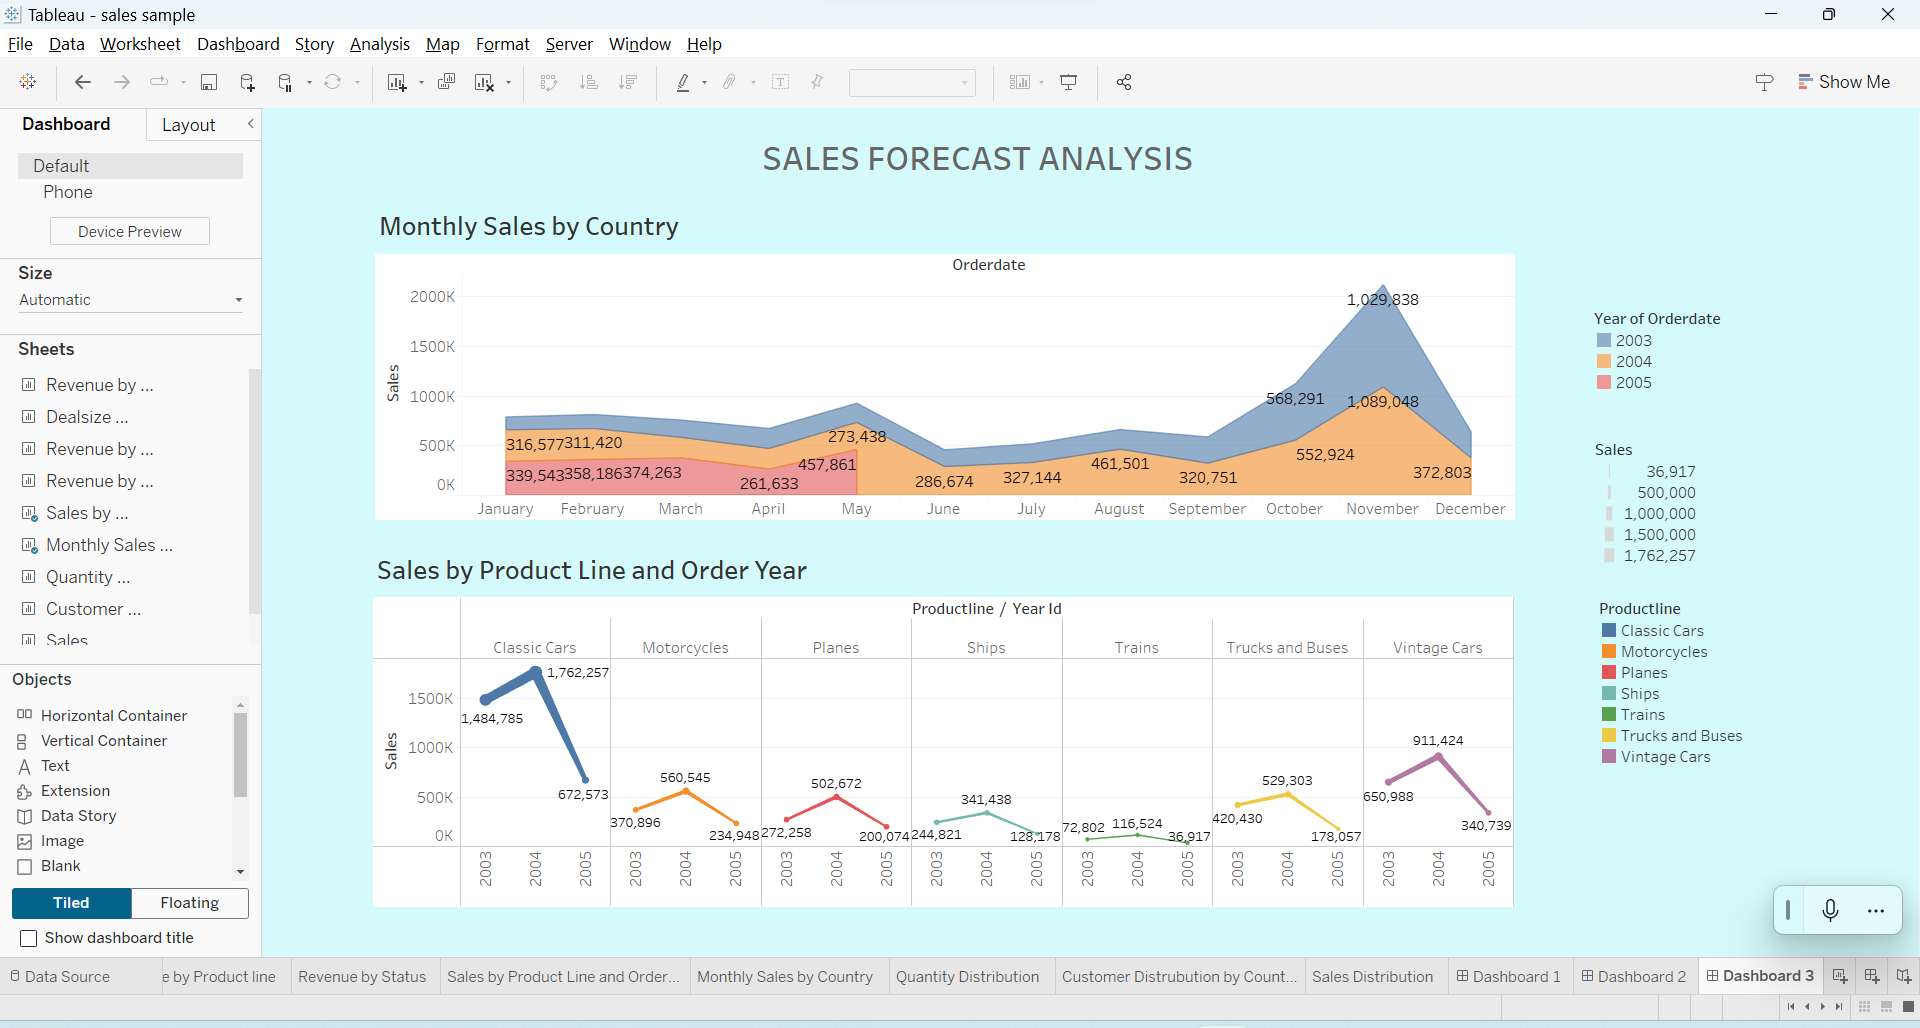

The dashboard page shown, as its layout file describes it:
{"tool":"tableau","page":{"name":"Dashboard 3","canvas":[1000,1000],"units":"permille","ordinal":2},"visuals":[{"type":"text","box":[299.9,30.7,264.3,53.1]},{"type":"worksheet","title":"Monthly Sales by Country","mark":"Area","rows":["SALES"],"cols":["ORDERDATE"],"box":[68.2,113.2,688,372.6]},{"type":"legend","title":"Monthly Sales by Country","param":"[federated.1p7c3ye0k3n9hr15a0q6i1e9qc64].[yr:ORDERDATE:ok]","box":[803.9,235.8,91.1,106.1]},{"type":"legend","title":"Sales by Product Line and Order Year","param":"[federated.1p7c3ye0k3n9hr15a0q6i1e9qc64].[sum:SALES:qk]","box":[804.5,390.3,84.5,149.8]},{"type":"worksheet","title":"Sales by Product Line and Order Year","mark":"Line","rows":["SALES"],"cols":["PRODUCTLINE","YEAR_ID"],"box":[67,518.9,688.6,423.4]},{"type":"legend","title":"Sales by Product Line and Order Year","param":"[federated.1p7c3ye0k3n9hr15a0q6i1e9qc64].[none:PRODUCTLINE:nk]","box":[806.9,577.8,89.9,199.3]}]}

Visuals, with their boxes on the dashboard's canvas, which has no fixed pixel size, in thousandths of its width and height (x1, y1, x2, y2). These are canvas units, not pixel positions in the 1920x1028 screenshot, which may show the page scaled, cropped or inside an application window:
text: bbox=[300, 31, 564, 84]
"Monthly Sales by Country" worksheet (Area marks): bbox=[68, 113, 756, 486]
"Monthly Sales by Country" legend: bbox=[804, 236, 895, 342]
"Sales by Product Line and Order Year" legend: bbox=[804, 390, 889, 540]
"Sales by Product Line and Order Year" worksheet (Line marks): bbox=[67, 519, 756, 942]
"Sales by Product Line and Order Year" legend: bbox=[807, 578, 897, 777]
